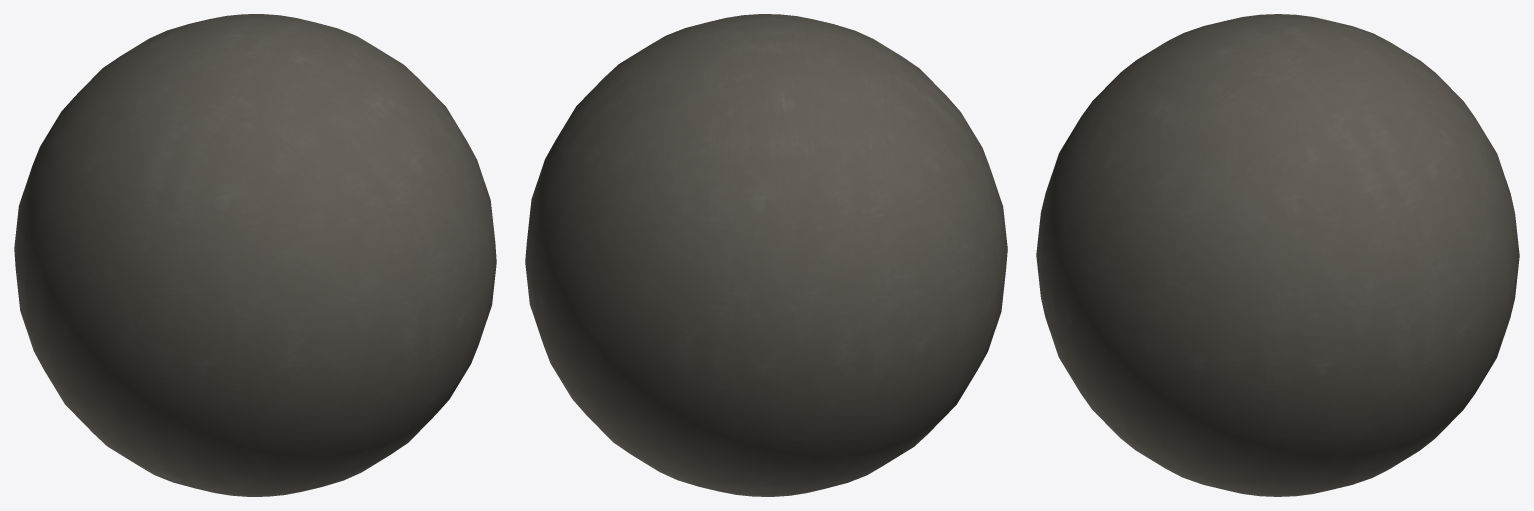
File: door_nobu.fbx
The picture shows the model from 3 angles, left to right: view 1: azimuth 30°, elevation 25°; view 2: azimuth 150°, elevation 25°; view 3: azimuth 270°, elevation 25°; orthographic projection.
Parts seen in each view (by area): view 1: door_nobu; view 2: door_nobu; view 3: door_nobu.
Boxes of the visible parts, box(x1,y1,x2,y2) form: door_nobu: box(14, 14, 496, 496); door_nobu: box(525, 14, 1007, 496); door_nobu: box(1036, 14, 1519, 496).
Bounding box in the file's own units: 8.89 × 8.89 × 8.89.
